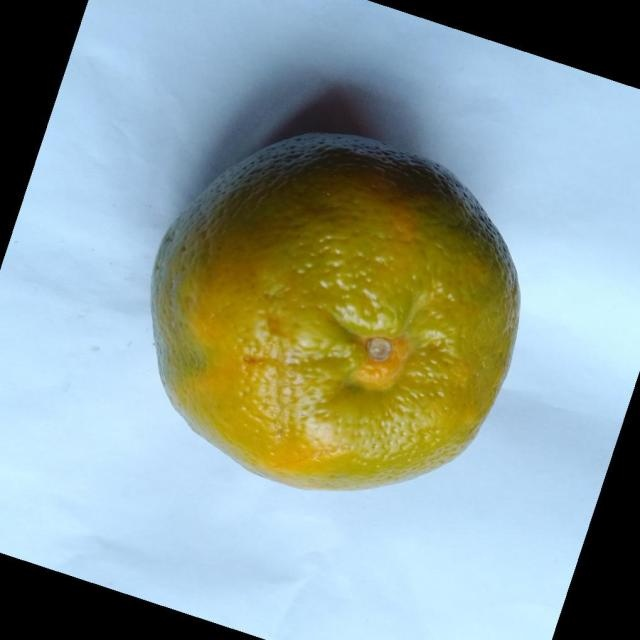agrume: (149, 130, 521, 492)
